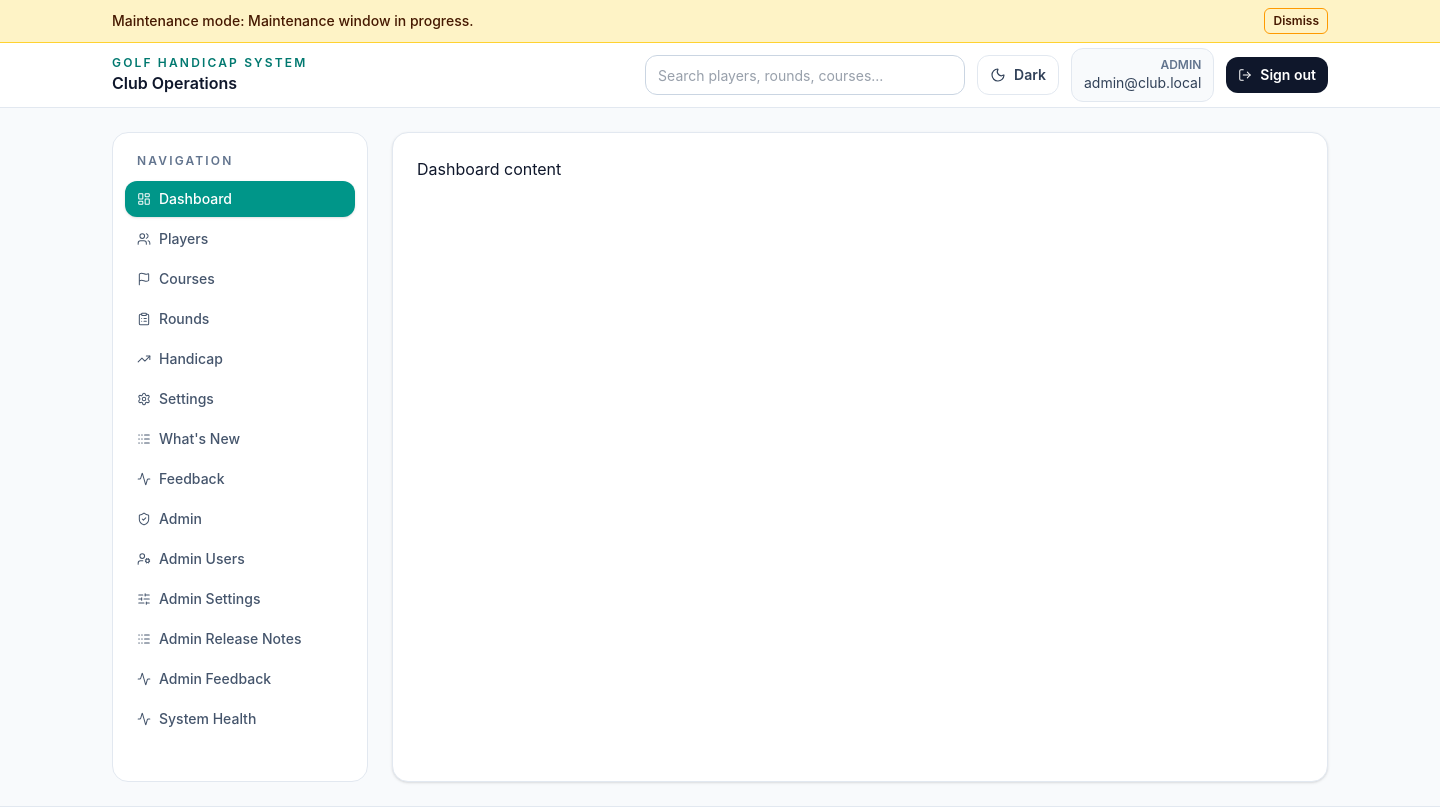
it: AppLayout maintenance banner › shows and dismisses maintenance banner when maintenance mode is enabled
The image size is (1440, 810).
Expected: the text "Maintenance mode: Maintenance window in progress." is shown, [112,11,474,31]
Click the button with aria-label "Dismiss maintenance banner": (1296, 21) [1264,8,1328,34]
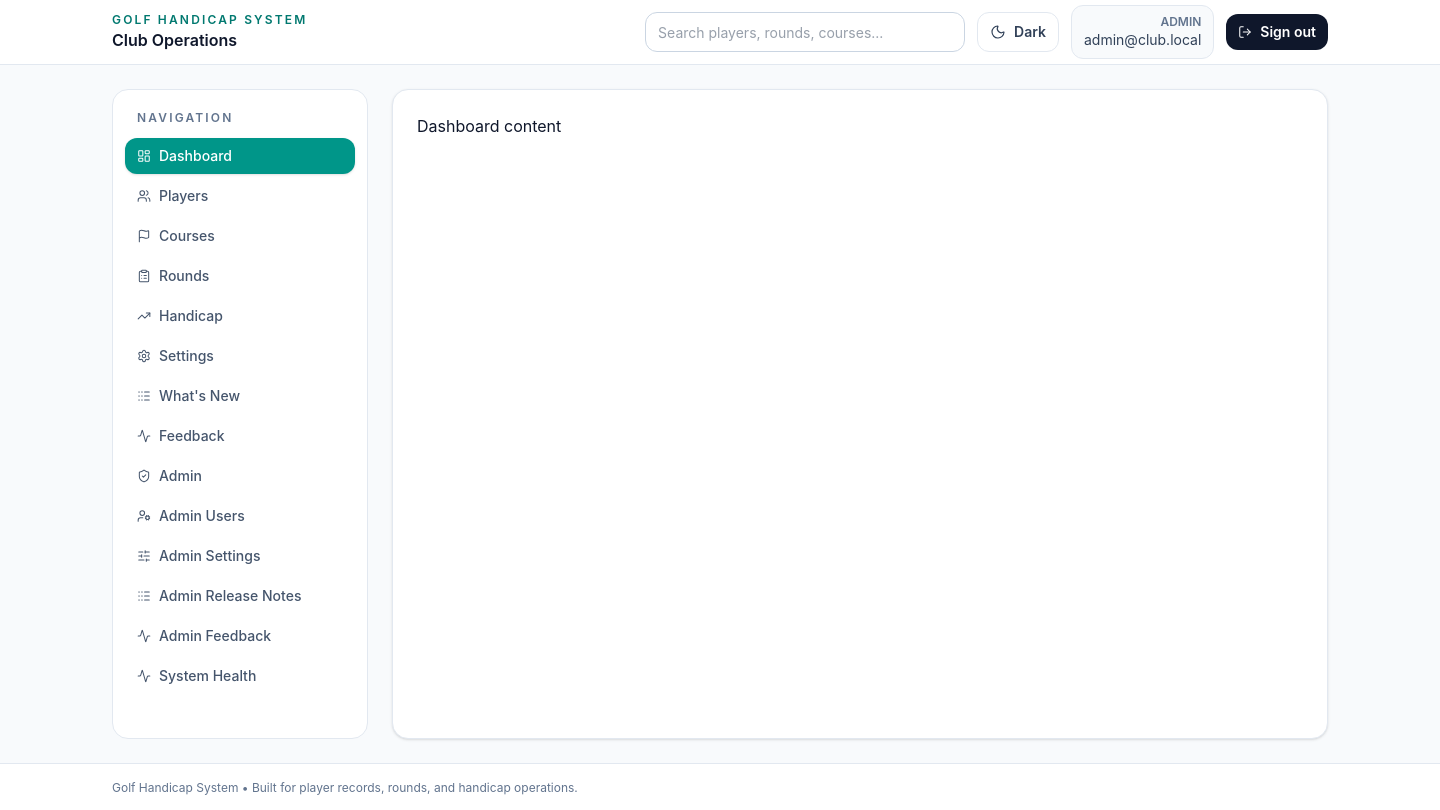
Expected: the text "Maintenance mode: Maintenance window in progress." is gone
